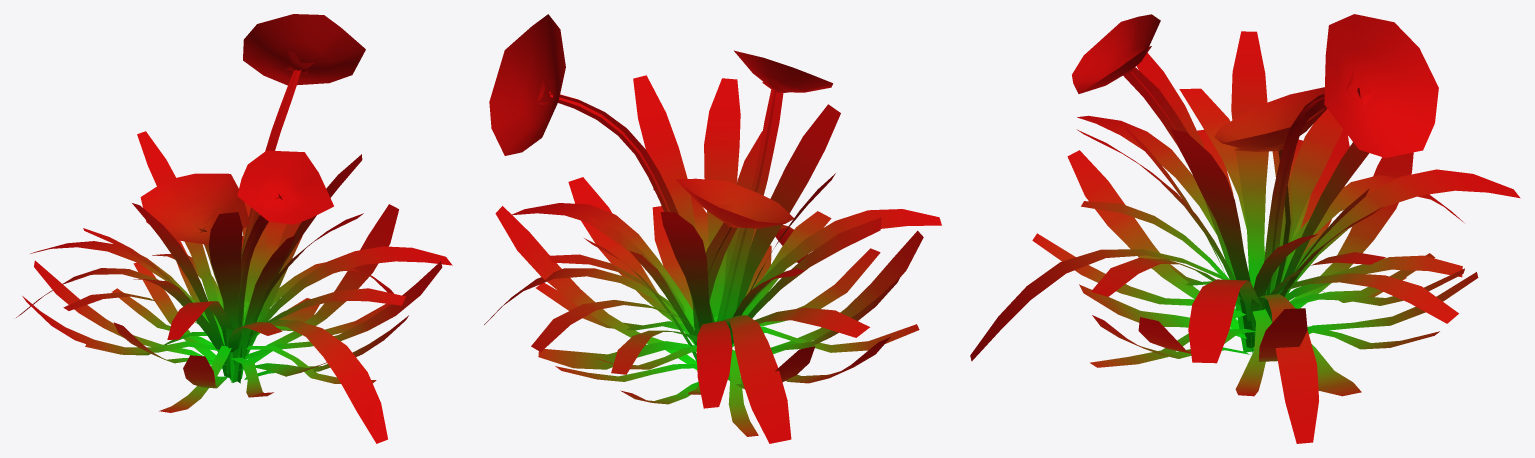
Rendered from Var1_LOD1.fbx.
3 views of the same model, side by side, from view 1: azimuth 30°, elevation 25°; view 2: azimuth 150°, elevation 25°; view 3: azimuth 270°, elevation 25° (orthographic). The views are drawn at different scales.
Visible parts, largest first — view 1: _1ada_Var1_LOD1; view 2: _1ada_Var1_LOD1; view 3: _1ada_Var1_LOD1.
Part boxes in pixels (bbox=[...]): _1ada_Var1_LOD1: bbox=[16, 14, 452, 443]; _1ada_Var1_LOD1: bbox=[484, 14, 941, 443]; _1ada_Var1_LOD1: bbox=[970, 14, 1520, 443].
Bounding box in the file's own units: 47.9 × 38.35 × 47.68.
